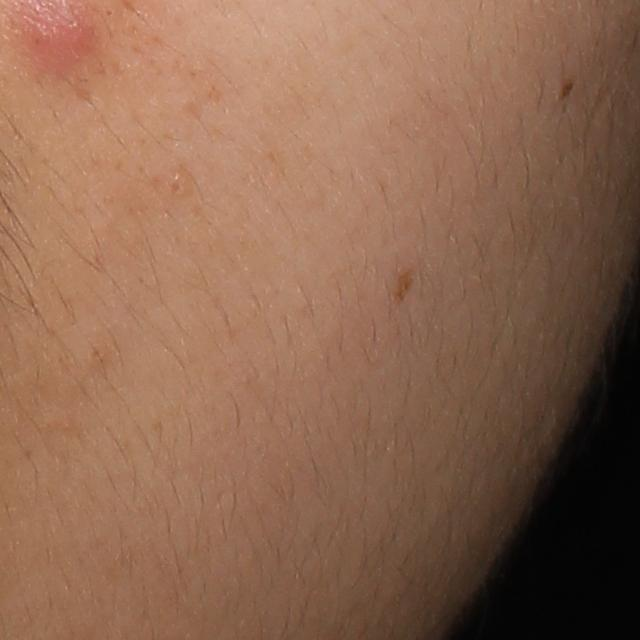comedo: (158, 172, 191, 203)
